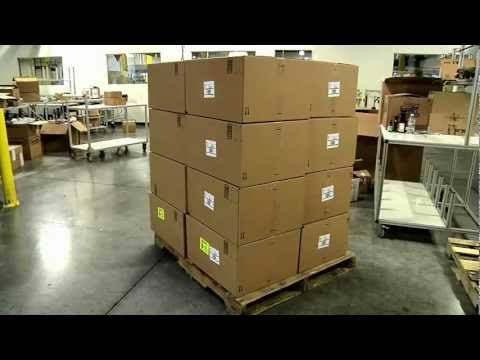box: (240, 174, 306, 247), (237, 223, 301, 296), (242, 116, 307, 186), (242, 54, 306, 124), (185, 213, 238, 297), (185, 165, 239, 247), (185, 113, 242, 189), (185, 54, 243, 124), (300, 209, 350, 277), (307, 59, 358, 119), (307, 162, 356, 224), (306, 117, 358, 175), (147, 151, 187, 216), (147, 103, 187, 167), (147, 191, 186, 255), (146, 59, 186, 115)
pallet: (150, 232, 356, 317)
